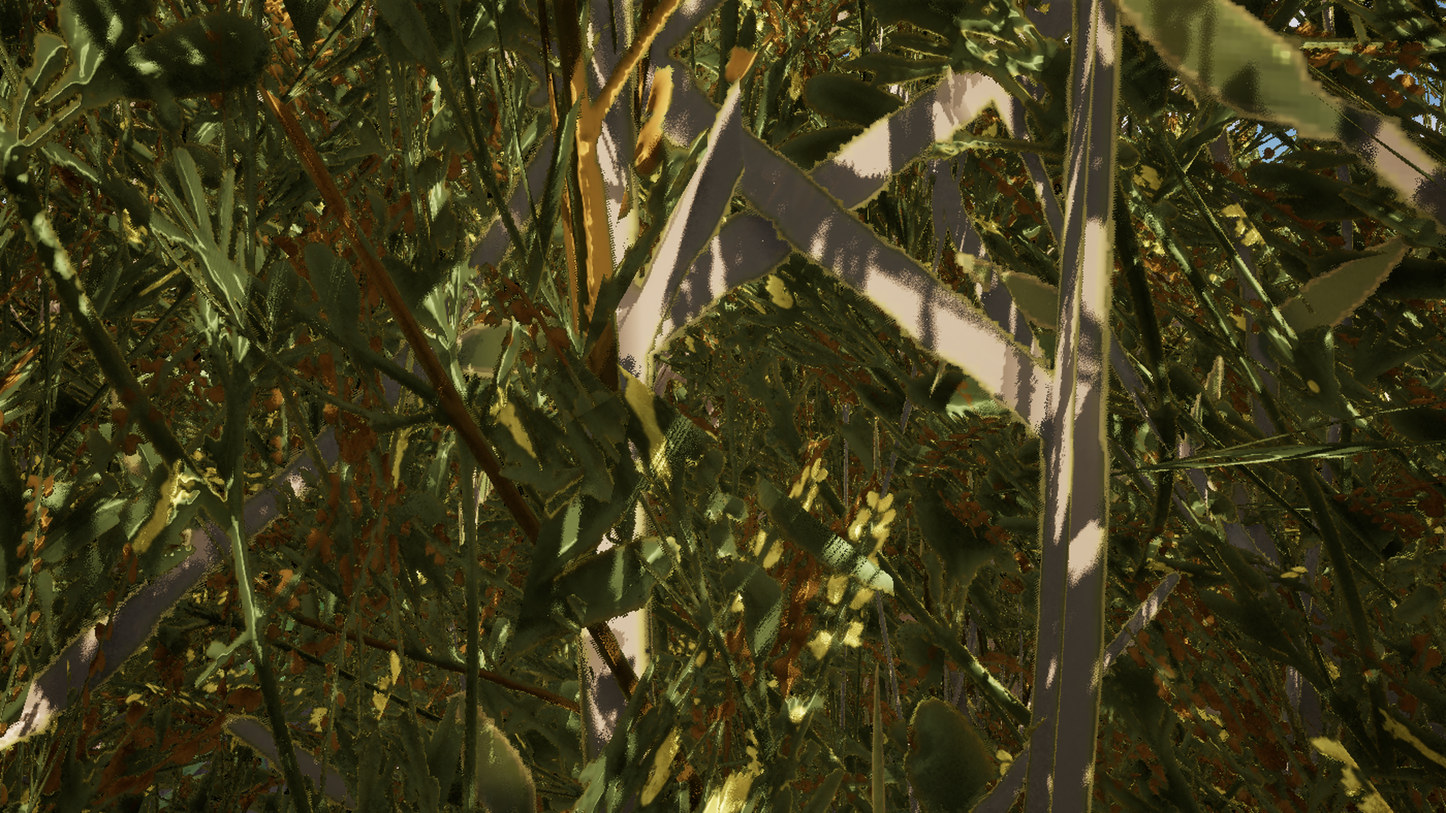Piplup: (388, 0, 1047, 813)
